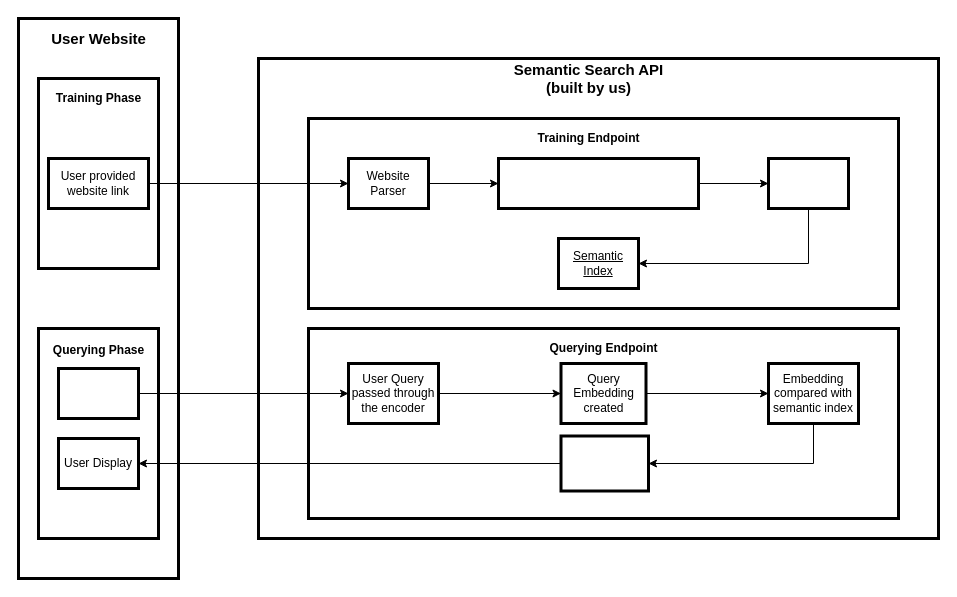
Image size: 957x597. Some labels were removed from this diagram. The shapes that lost their labels are listed below. From the top down, each one's centre as x and y in pixels, then its label:
(598,183): Preprocessing and Cleaning the corpus
(808,183): Creating the Semantic Index
(98,393): User Query entered in the search bar
(604,463): Top 3 most similar results found
